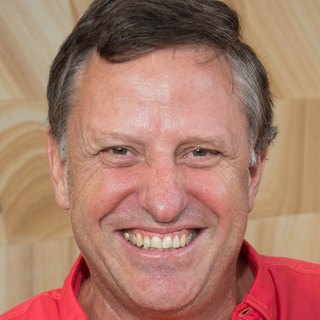eye: (174, 141, 232, 164), (95, 139, 143, 161)
